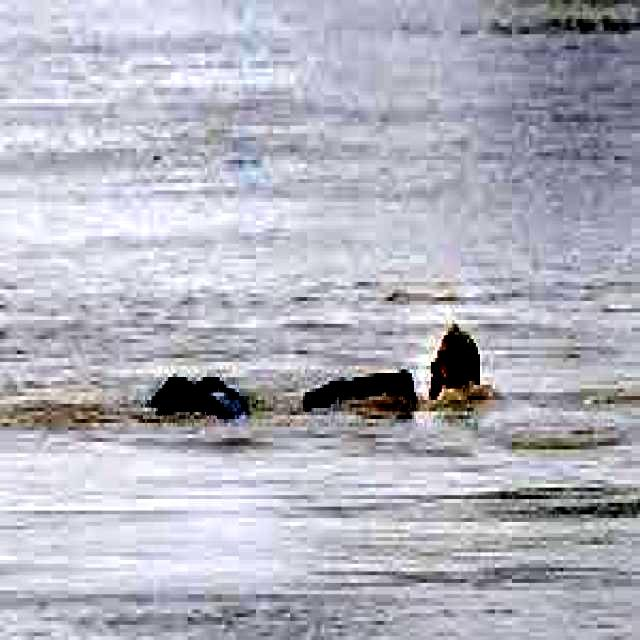civilian: (400, 300, 509, 450)
